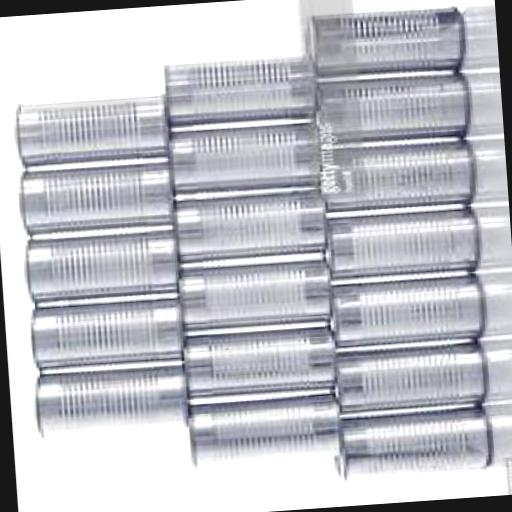metal: (307, 74, 471, 149), (328, 341, 490, 416), (300, 9, 466, 82), (326, 276, 488, 350), (322, 209, 486, 282), (166, 190, 324, 265), (330, 409, 492, 481), (20, 232, 176, 306), (318, 143, 478, 215), (160, 58, 318, 130), (26, 300, 180, 372), (176, 328, 334, 398), (14, 98, 166, 170), (162, 126, 317, 196), (34, 366, 184, 438), (174, 262, 330, 331), (180, 398, 336, 466), (18, 165, 166, 236)
